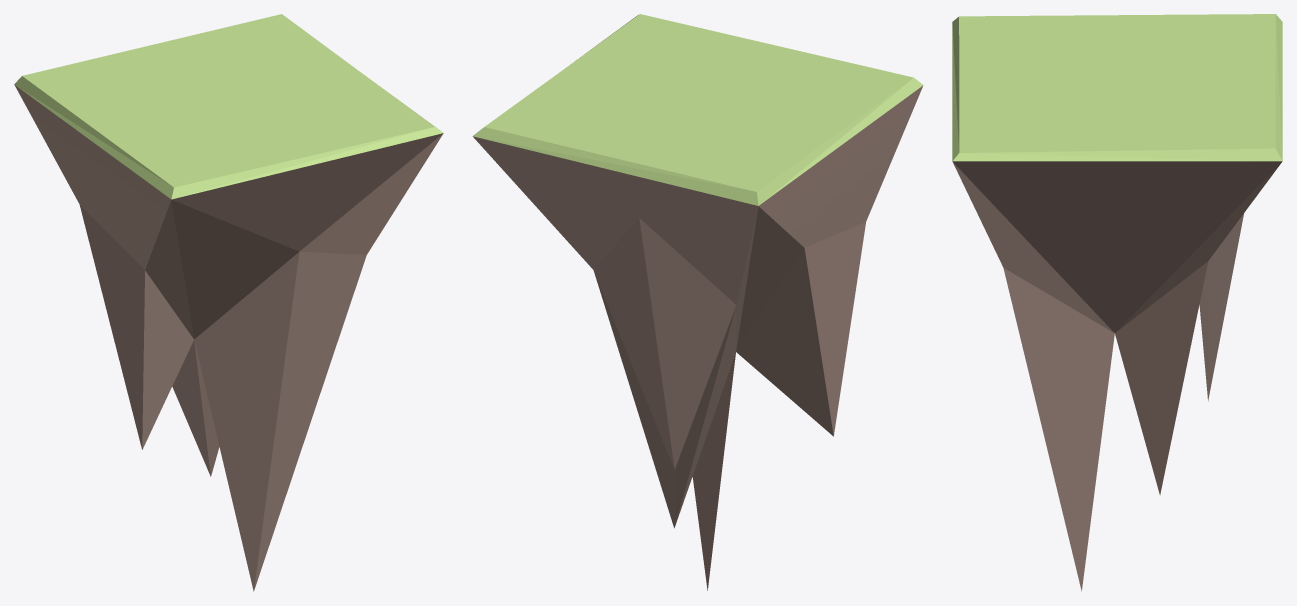
3 renders of one model, left to right at view 1: azimuth 30°, elevation 25°; view 2: azimuth 150°, elevation 25°; view 3: azimuth 270°, elevation 25°, orthographic. The views are drawn at different scales.
Visible parts, largest first — view 1: group1926919455; view 2: group1926919455; view 3: group1926919455.
Part boxes in pixels (<box>): group1926919455: <box>14,14,443,591</box>; group1926919455: <box>472,14,923,590</box>; group1926919455: <box>952,14,1282,591</box>.
Size of the model in its own units: 3.15 by 5.33 by 3.15.
